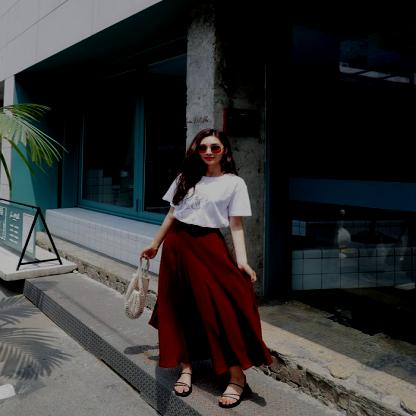dress: (150, 216, 270, 375), (159, 168, 245, 228)
